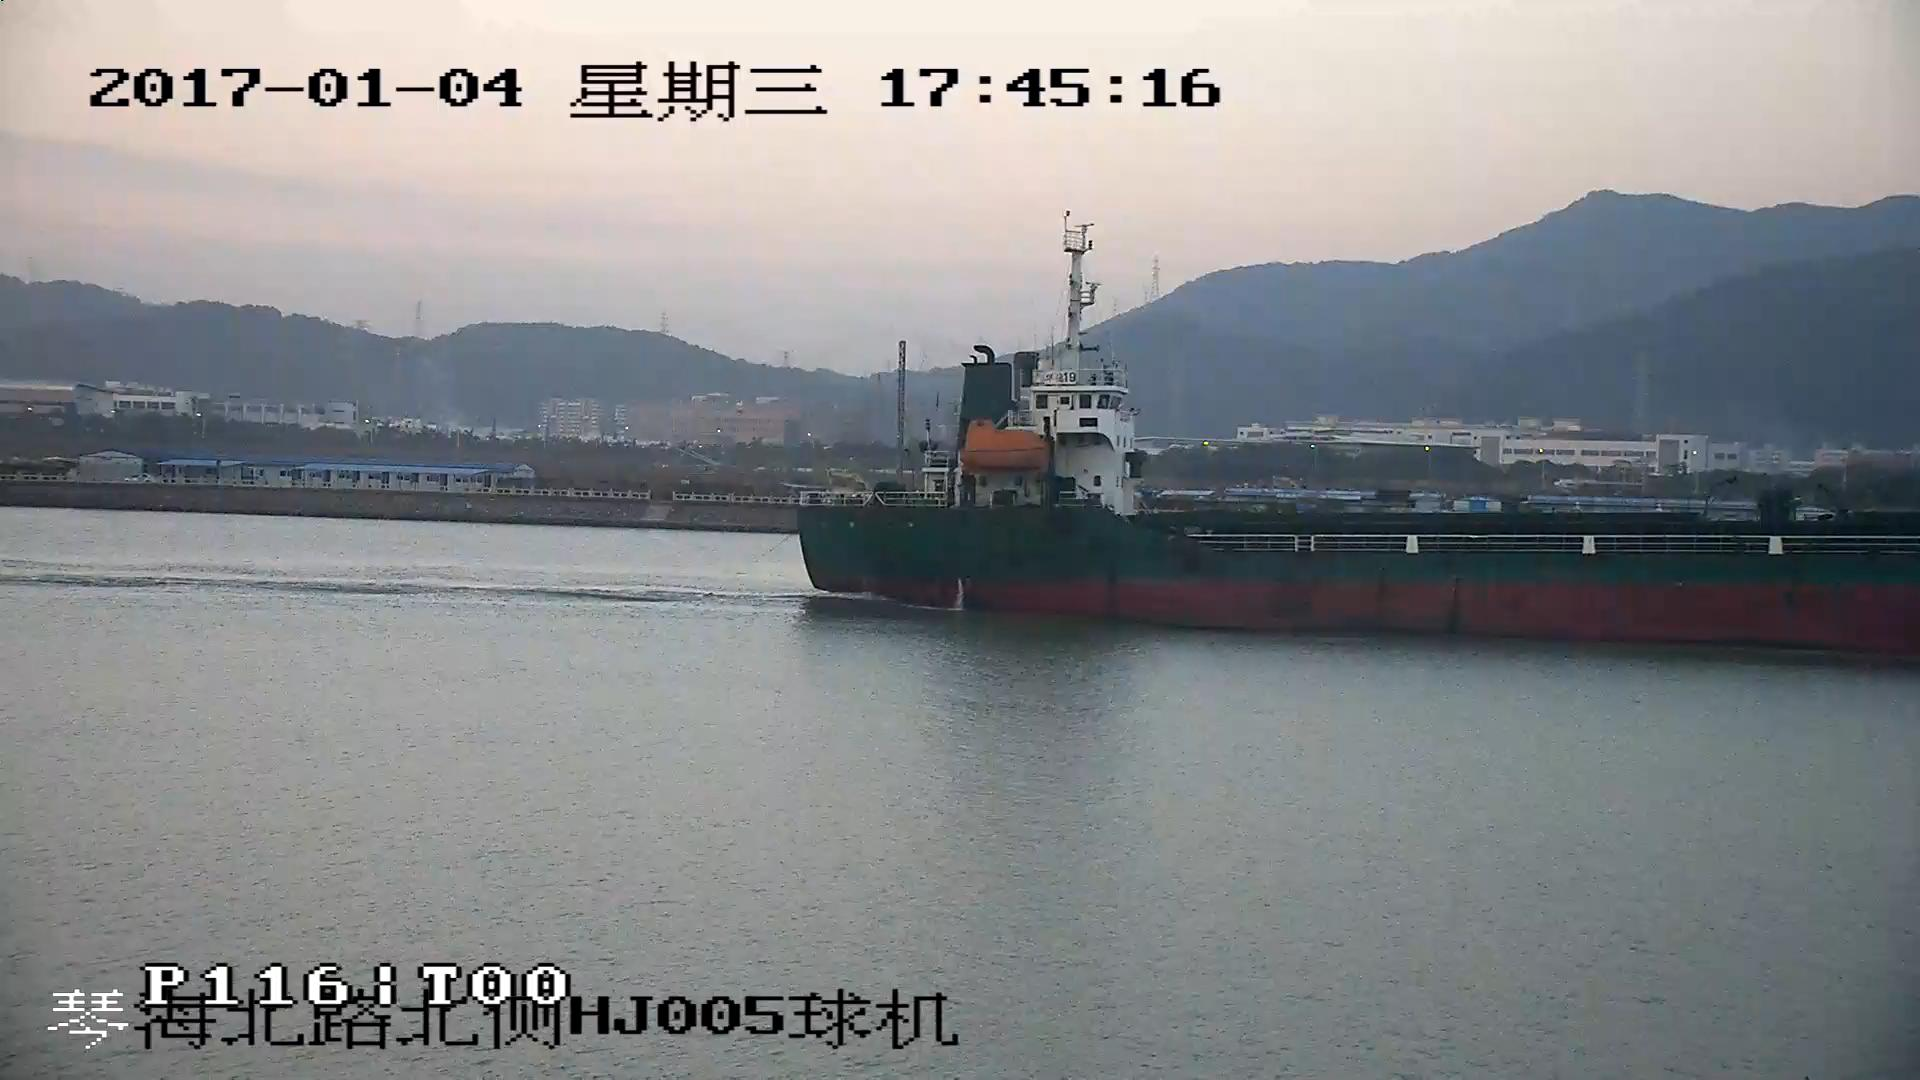general cargo ship: (797, 219, 1920, 651)
